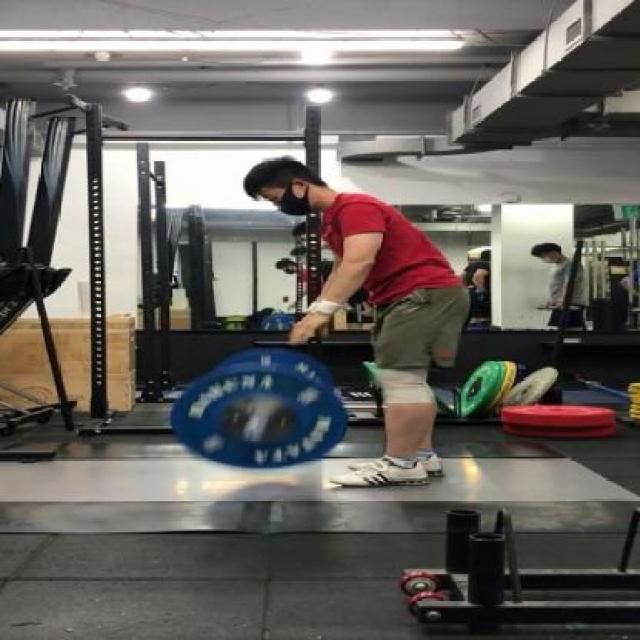Barbell: (236, 425, 272, 447)
